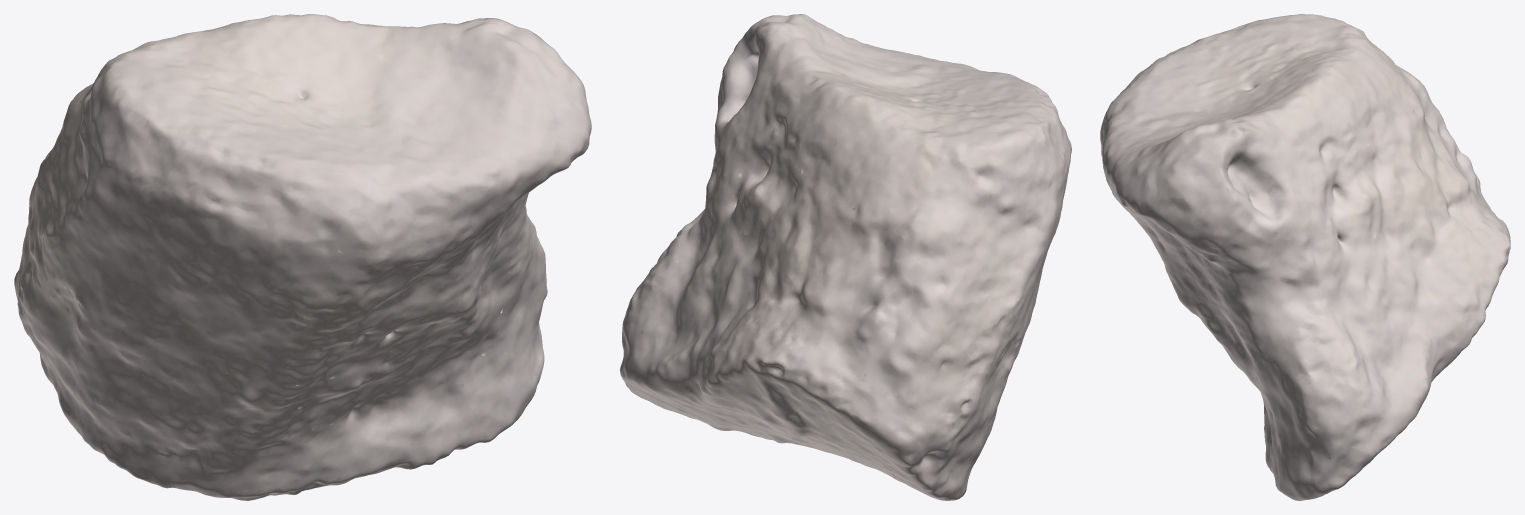
The picture shows the model from 3 angles, left to right: view 1: azimuth 30°, elevation 25°; view 2: azimuth 150°, elevation 25°; view 3: azimuth 270°, elevation 25°; orthographic projection. The views are drawn at different scales.
Parts seen in each view (by area): view 1: Os tarsale tertium_li_Katze.001; view 2: Os tarsale tertium_li_Katze.001; view 3: Os tarsale tertium_li_Katze.001.
Part boxes in pixels (<box>): Os tarsale tertium_li_Katze.001: <box>14,14,591,500</box>; Os tarsale tertium_li_Katze.001: <box>620,14,1071,500</box>; Os tarsale tertium_li_Katze.001: <box>1100,14,1510,500</box>.
Size of the model in its own units: 461 by 421 by 435.
1 material, 1 textured.
